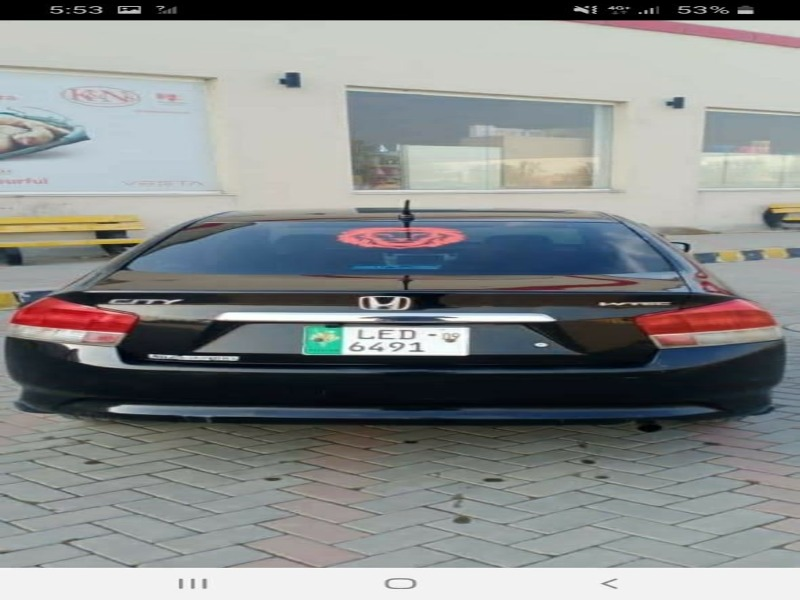License Plate: (298, 324, 477, 359)
